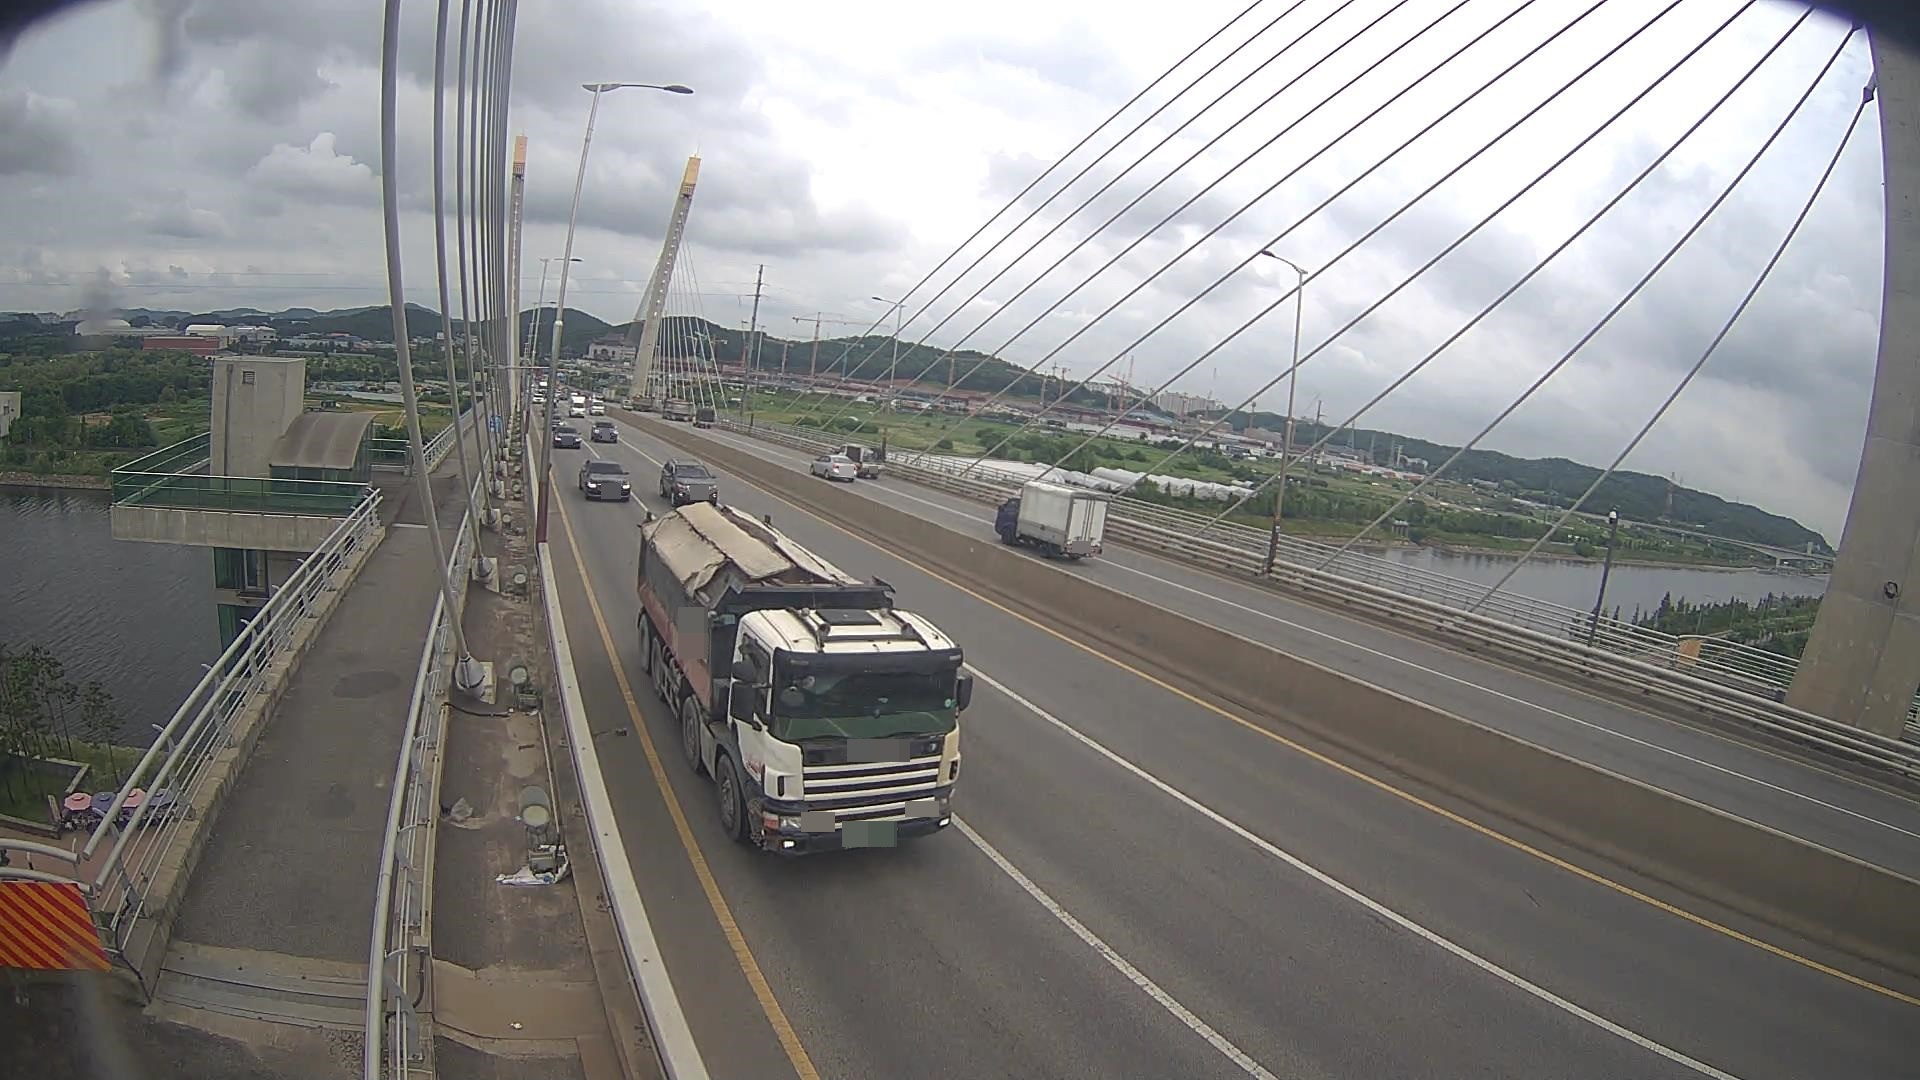정상차량: (636, 501, 975, 857)
